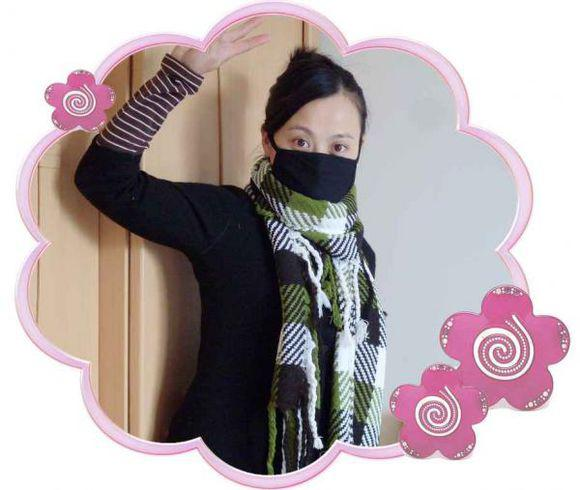OK: (273, 115, 365, 207)
